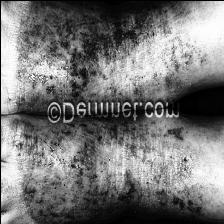Non-Cancerous Skin Condition: (60, 11, 118, 95), (42, 137, 91, 224), (171, 195, 184, 211)
